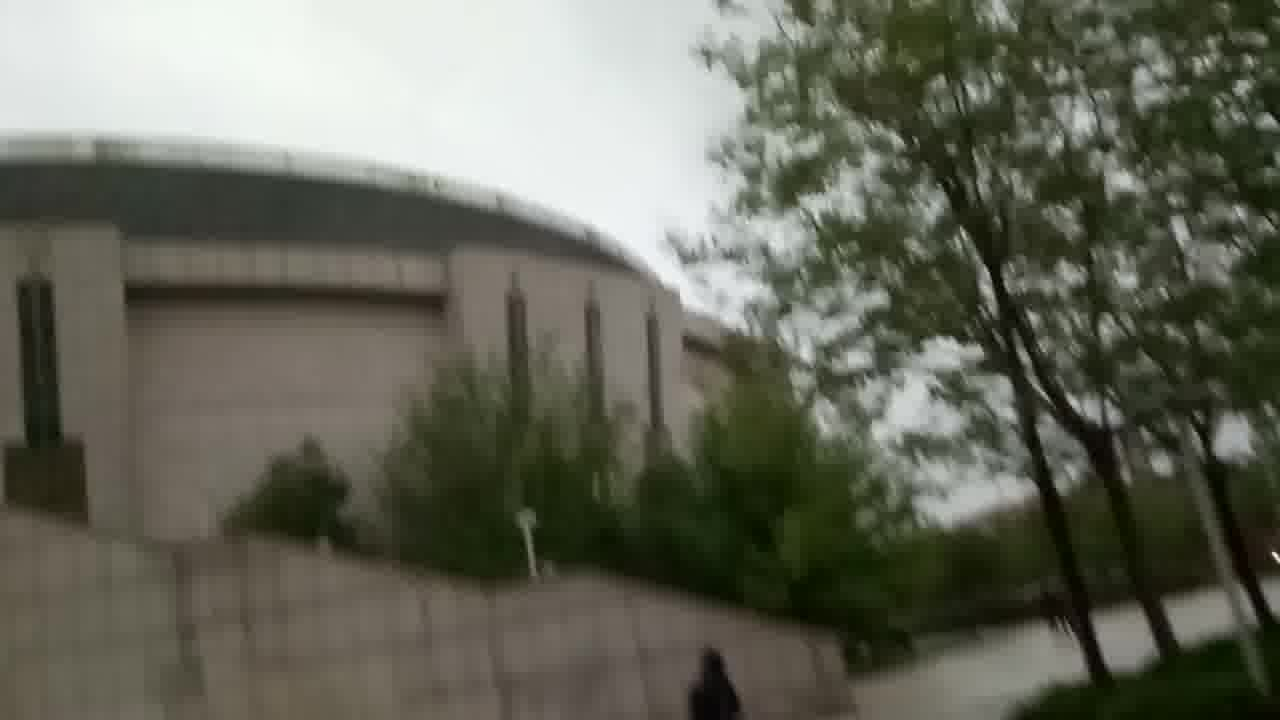zhongtiww: (8, 116, 904, 720)
